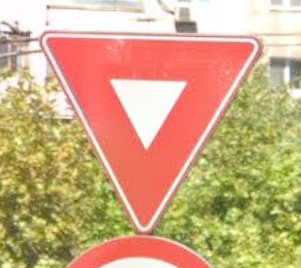cedeaza: (37, 26, 265, 243)
